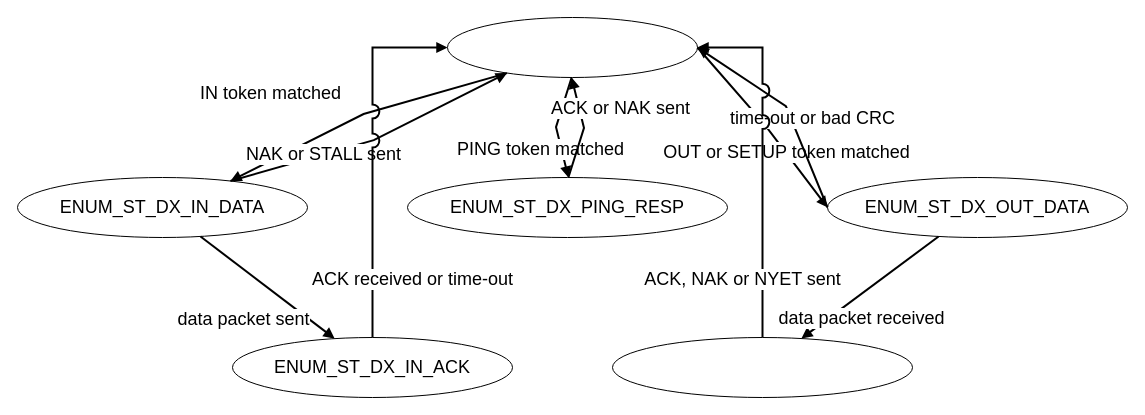
Some shapes in this 1145 by 415 pixel diagram are drawn without their labels. The centre of each missing label's shape, as x and y in pixels:
"ENUM_ST_DX_IDLE" goes at point (572, 47).
"ENUM_ST_DX_OUT_RESP" goes at point (762, 367).
